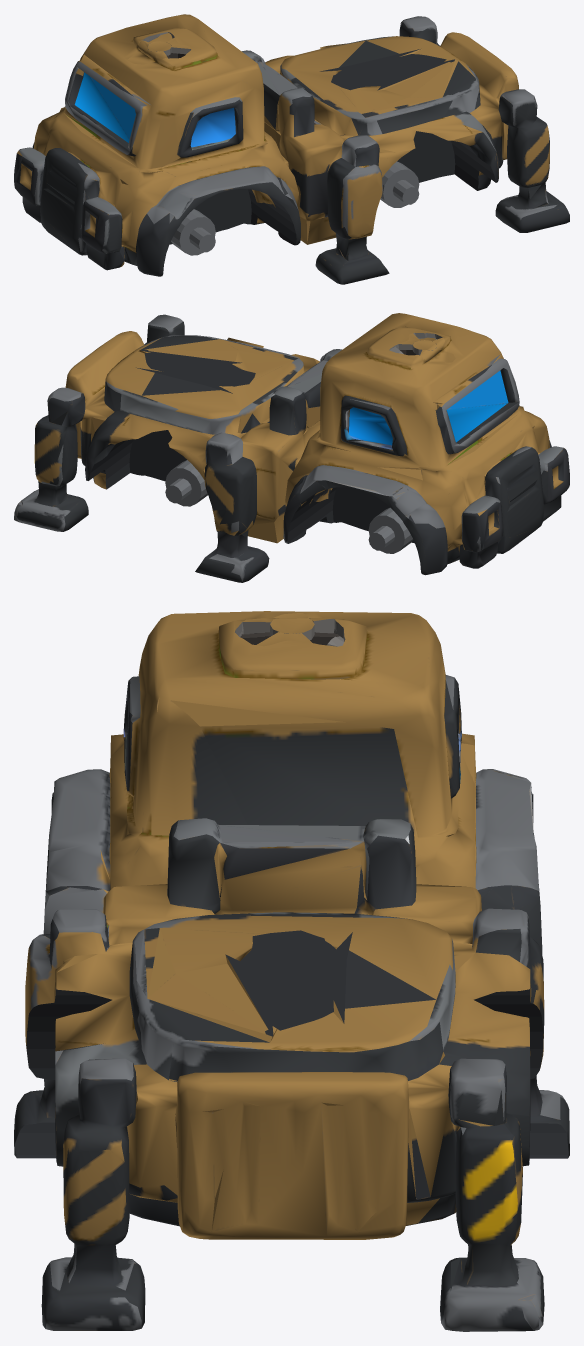
Rendered from OZ_CRANE_Wreck_V1.glb.
3 views of the same model, one above another, from view 1: azimuth 30°, elevation 25°; view 2: azimuth 150°, elevation 25°; view 3: azimuth 270°, elevation 25° (orthographic). The views are drawn at different scales.
Parts seen in each view (by area): view 1: Crane_Chassis_Wreck_V1; view 2: Crane_Chassis_Wreck_V1; view 3: Crane_Chassis_Wreck_V1.
Part boxes in pixels (x1=…): Crane_Chassis_Wreck_V1: x1=14, y1=14, x2=569, y2=284; Crane_Chassis_Wreck_V1: x1=14, y1=313, x2=569, y2=582; Crane_Chassis_Wreck_V1: x1=14, y1=611, x2=569, y2=1331.
Bounding box in the file's own units: 1.69 × 0.7636 × 0.9749.
3 materials, 1 textured.
